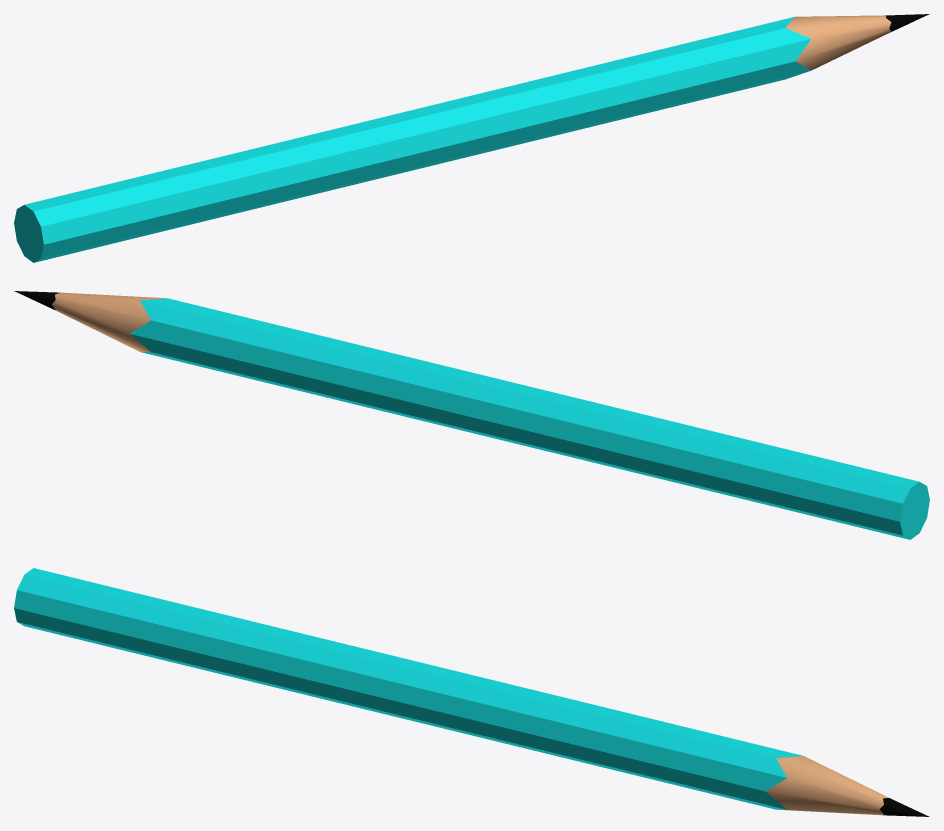
Rendered from kalem.fbx.
The picture shows the model from 3 angles, top to bottom: view 1: azimuth 30°, elevation 25°; view 2: azimuth 150°, elevation 25°; view 3: azimuth 330°, elevation 25°; orthographic projection.
Visible parts, largest first — view 1: kalem; view 2: kalem; view 3: kalem.
Part boxes in pixels (left/top/right/bottom): kalem: left=14, top=14, right=929, bottom=262; kalem: left=14, top=291, right=929, bottom=539; kalem: left=14, top=568, right=929, bottom=816.
Bounding box in the file's own units: 2.34 × 0.1279 × 0.1345.
